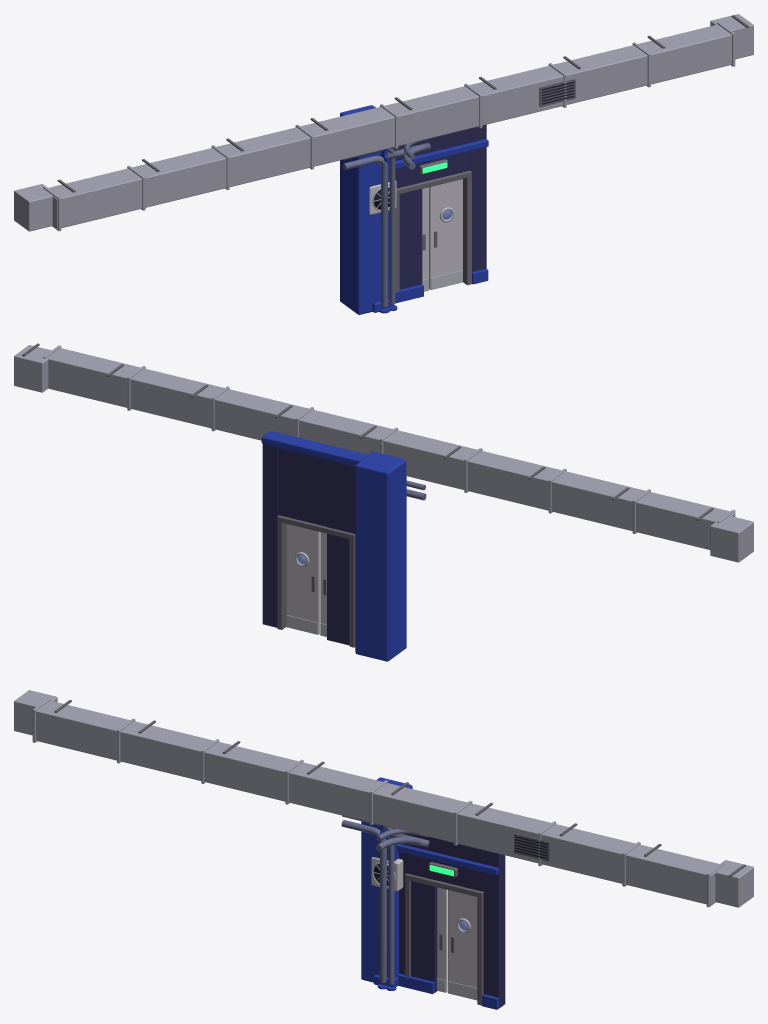
Rendered from walls.glb.
3 renders of one model, top to bottom at view 1: azimuth 30°, elevation 25°; view 2: azimuth 150°, elevation 25°; view 3: azimuth 330°, elevation 25°, orthographic.
Visible parts, largest first — view 1: BackDuct, WallDoor, Corner, DoorR, WallRun, PipeDrop, DoorL; view 2: BackDuct, WallDoor, Corner, DoorR, WallRun, DoorL; view 3: BackDuct, WallDoor, WallRun, Corner, DoorR, PipeDrop, DoorL, Fan, PipeElbow.
Boxes of the visible parts, bbox=[...] form: BackDuct: bbox=[14, 14, 753, 231]; WallDoor: bbox=[394, 124, 488, 291]; Corner: bbox=[340, 105, 389, 314]; DoorR: bbox=[429, 179, 462, 289]; WallRun: bbox=[393, 142, 423, 303]; PipeDrop: bbox=[342, 148, 397, 313]; DoorL: bbox=[422, 187, 428, 291]; BackDuct: bbox=[14, 343, 753, 562]; WallDoor: bbox=[261, 431, 367, 647]; Corner: bbox=[355, 452, 406, 661]; DoorR: bbox=[286, 524, 319, 634]; WallRun: bbox=[326, 450, 365, 645]; DoorL: bbox=[320, 532, 326, 636]; BackDuct: bbox=[14, 690, 753, 907]; WallDoor: bbox=[397, 834, 505, 1009]; WallRun: bbox=[396, 834, 437, 994]; Corner: bbox=[361, 777, 412, 982]; DoorR: bbox=[448, 890, 477, 1000]; PipeDrop: bbox=[341, 815, 396, 990]; DoorL: bbox=[437, 887, 447, 992]; Fan: bbox=[371, 857, 403, 891]; PipeElbow: bbox=[375, 829, 422, 851].
Bounding box in the file's own units: 16.25 × 4.38 × 1.45.
